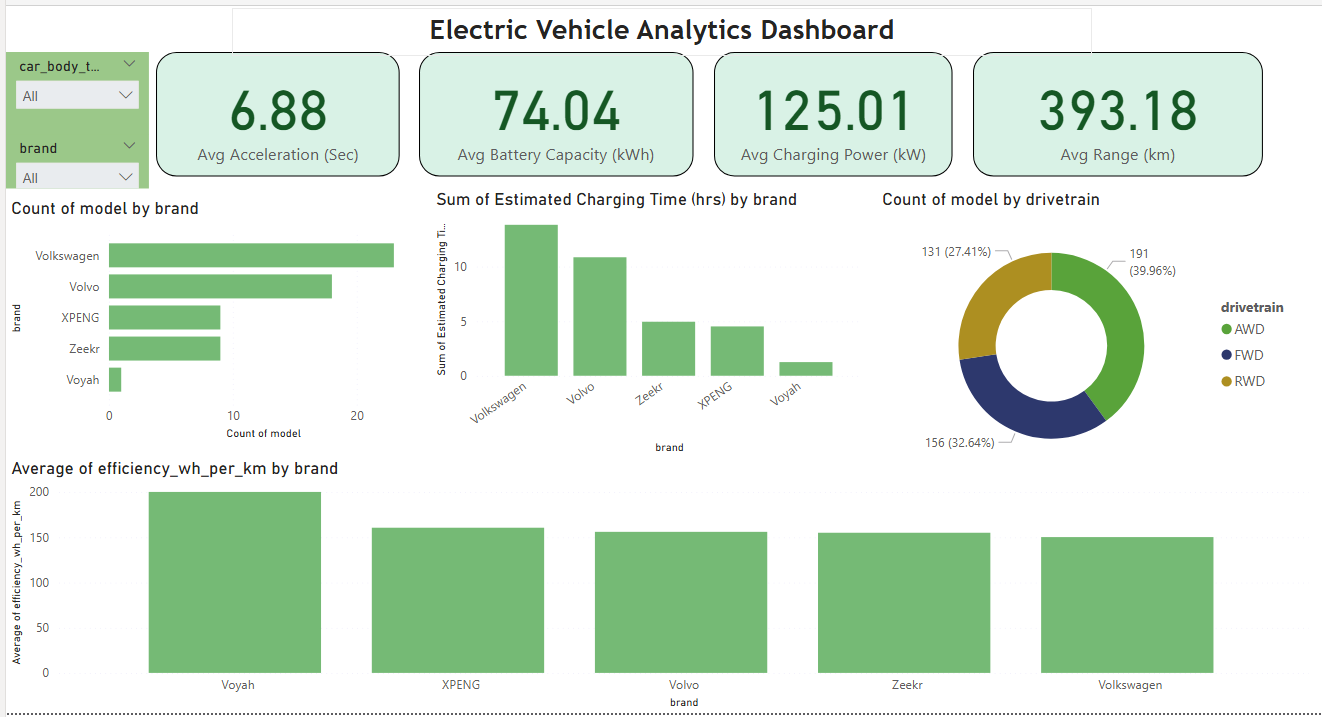

This screenshot's page, from the dashboard's own definition file:
{"tool":"powerbi","page":{"name":"Page 1","canvas":[1280,720],"ordinal":0},"visuals":[{"type":"card","fields":{"Values":["electric_vehicles_cleaned.Avg Acceleration (Sec)"]},"box":[145.9,76.8,237.3,120.6],"z":0},{"type":"card","fields":{"Values":["electric_vehicles_cleaned.Avg Charging Power (kW)"]},"box":[688.6,76.8,232.5,120.6],"z":1000},{"type":"card","fields":{"Values":["electric_vehicles_cleaned.Avg Battery Capacity (kWh)"]},"box":[401.7,76.8,266.5,120.6],"z":2000},{"type":"card","fields":{"Values":["electric_vehicles_cleaned.Avg Range (km)"]},"box":[940.5,76.8,282.1,120.6],"z":3000},{"type":"clusteredBarChart","fields":{"Category":["electric_vehicles_cleaned.brand"],"Y":["CountNonNull(electric_vehicles_cleaned.model)"]},"box":[0,218.8,413.4,239.3],"z":4000},{"type":"donutChart","fields":{"Category":["electric_vehicles_cleaned.drivetrain"],"Y":["CountNonNull(electric_vehicles_cleaned.model)"]},"box":[847.2,210.1,417.3,284],"z":5000},{"type":"slicer","fields":{"Values":["electric_vehicles_cleaned.brand"]},"box":[0,156.6,139.1,53.5],"z":6000},{"type":"columnChart","fields":{"Category":["electric_vehicles_cleaned.brand"],"Y":["Avg(electric_vehicles_cleaned.efficiency_wh_per_km)"]},"box":[0,471.7,1272.2,248],"z":7000},{"type":"clusteredColumnChart","fields":{"Category":["electric_vehicles_cleaned.brand"],"Y":["Sum(electric_vehicles_cleaned.Estimated Charging Time (hrs))"]},"box":[413.4,210.1,424.1,261.6],"z":8000},{"type":"slicer","fields":{"Values":["electric_vehicles_cleaned.car_body_type"]},"box":[0,76.8,139.1,79.8],"z":9000},{"type":"textbox","box":[219.8,34,836.5,46.7],"z":10000}]}

Visuals, with their boxes on the page's 1280x720 design canvas (x1, y1, x2, y2). These are canvas units, not pixel positions in the 1322x717 screenshot, which may show the page scaled, cropped or inside an application window:
card - electric_vehicles_cleaned.Avg Acceleration (Sec): box(146, 77, 383, 197)
card - electric_vehicles_cleaned.Avg Charging Power (kW): box(689, 77, 921, 197)
card - electric_vehicles_cleaned.Avg Battery Capacity (kWh): box(402, 77, 668, 197)
card - electric_vehicles_cleaned.Avg Range (km): box(940, 77, 1223, 197)
clusteredBarChart - electric_vehicles_cleaned.brand x CountNonNull(electric_vehicles_cleaned.model): box(0, 219, 413, 458)
donutChart - electric_vehicles_cleaned.drivetrain x CountNonNull(electric_vehicles_cleaned.model): box(847, 210, 1264, 494)
slicer - electric_vehicles_cleaned.brand: box(0, 157, 139, 210)
columnChart - electric_vehicles_cleaned.brand x Avg(electric_vehicles_cleaned.efficiency_wh_per_km): box(0, 472, 1272, 720)
clusteredColumnChart - electric_vehicles_cleaned.brand x Sum(electric_vehicles_cleaned.Estimated Charging Time (hrs)): box(413, 210, 838, 472)
slicer - electric_vehicles_cleaned.car_body_type: box(0, 77, 139, 157)
textbox: box(220, 34, 1056, 81)
